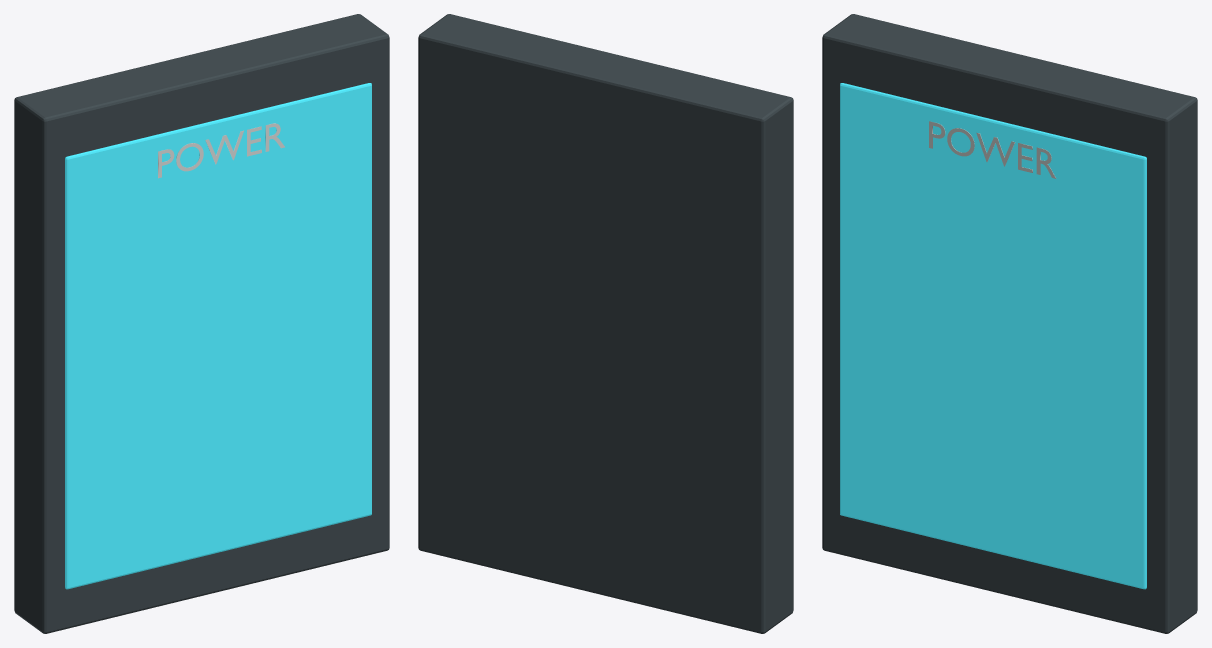
3 renders of one model, left to right at view 1: azimuth 30°, elevation 25°; view 2: azimuth 150°, elevation 25°; view 3: azimuth 330°, elevation 25°, orthographic.
Parts seen in each view (by area): view 1: B06_CTL_Display_panel_screen_0, B06_CTL_Display_panel_frame_0, B06_CTL_Display_tag_0; view 2: B06_CTL_Display_panel_frame_0; view 3: B06_CTL_Display_panel_screen_0, B06_CTL_Display_panel_frame_0, B06_CTL_Display_tag_0.
Boxes of the visible parts, <box> form: B06_CTL_Display_panel_screen_0: <box>65,83,371,589</box>; B06_CTL_Display_panel_frame_0: <box>14,14,389,633</box>; B06_CTL_Display_tag_0: <box>158,123,284,178</box>; B06_CTL_Display_panel_frame_0: <box>418,14,793,633</box>; B06_CTL_Display_panel_screen_0: <box>840,83,1146,589</box>; B06_CTL_Display_panel_frame_0: <box>822,14,1197,633</box>; B06_CTL_Display_tag_0: <box>929,121,1056,178</box>.
Size of the model in its own units: 2.6 by 3.7 by 0.441.
